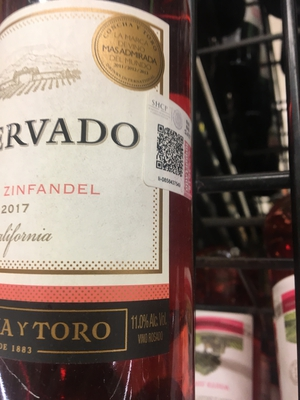reservado white zinfandel: (2, 8, 190, 400)
